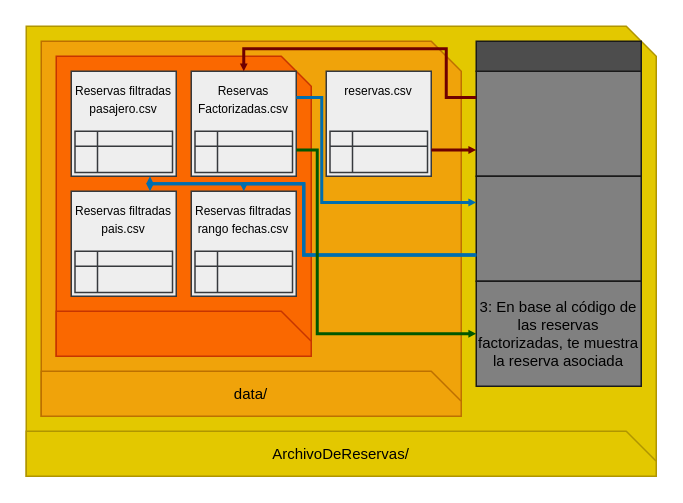
Some shapes in this 683 by 503 pixel diagram are drawn without their labels. The centre of each missing label's shape, as x and y in pixels:
"1: Convierte el archivo de reservas en reservas factorizadas" belongs at (558,123).
"2: Filtra las reservas factorizadas por pasajero, país o rango de fechas" belongs at (558,228).
"ArchivoDeReservas" belongs at (558,55).
"ListaReservas/" belongs at (183,333).
